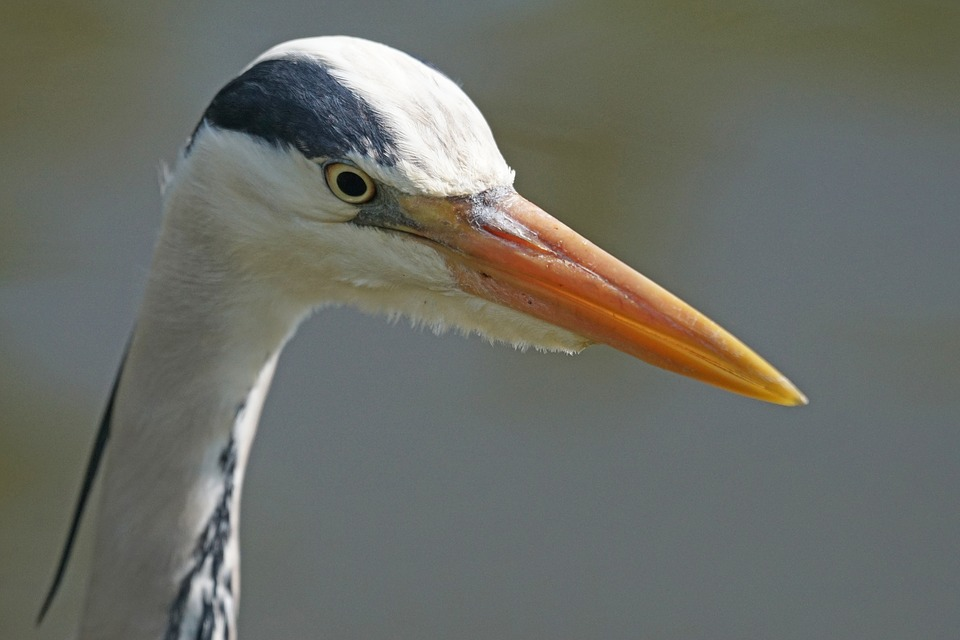heron: (38, 30, 812, 639)
